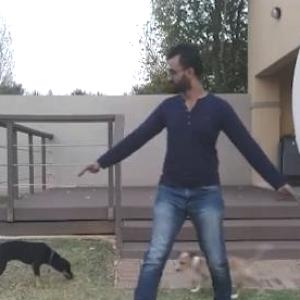land: (81, 30, 289, 299)
